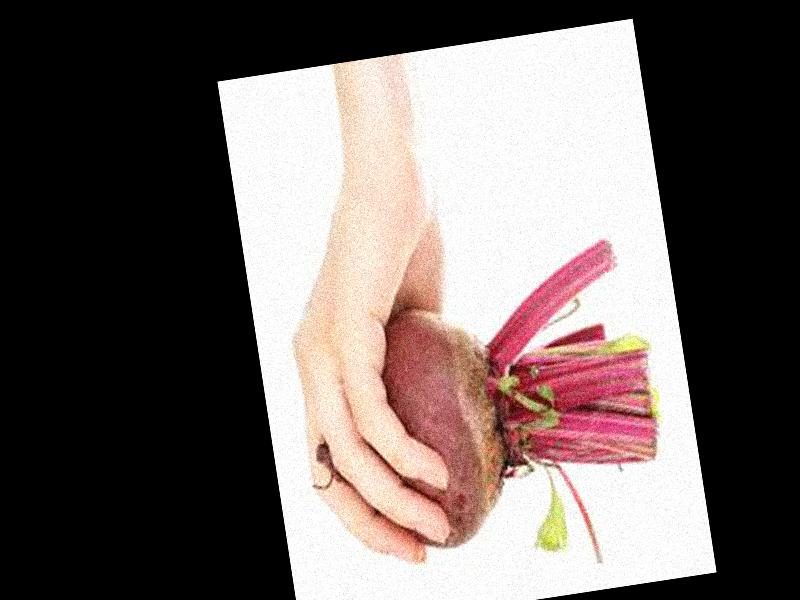Beet: (288, 236, 680, 600)
